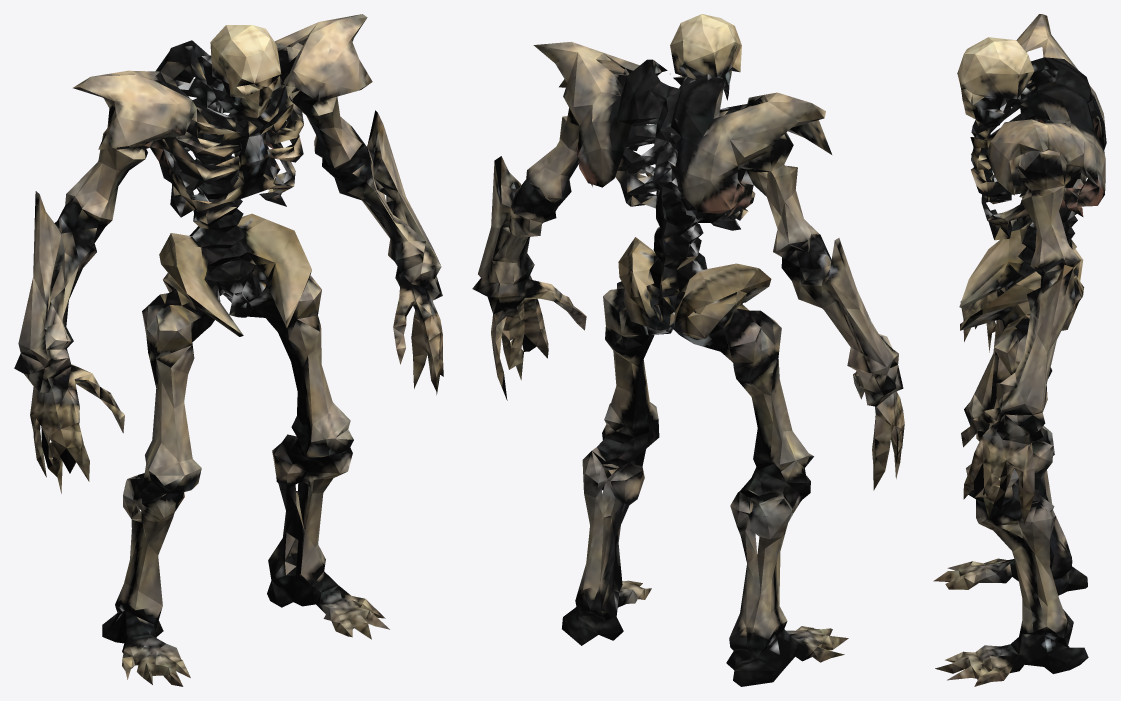
Rendered from bone_golem.gltf.
3 views of the same model, side by side, from view 1: azimuth 30°, elevation 25°; view 2: azimuth 150°, elevation 25°; view 3: azimuth 270°, elevation 25° (orthographic). The views are drawn at different scales.
Parts seen in each view (by area): view 1: bone_golem; view 2: bone_golem; view 3: bone_golem.
Boxes of the visible parts, x1,y1,x2,y2 form: bone_golem: (14, 14, 443, 686); bone_golem: (472, 14, 904, 686); bone_golem: (933, 14, 1106, 686).
Bounding box in the file's own units: 0.7148 × 1 × 0.2662.
1 material, 1 textured.
